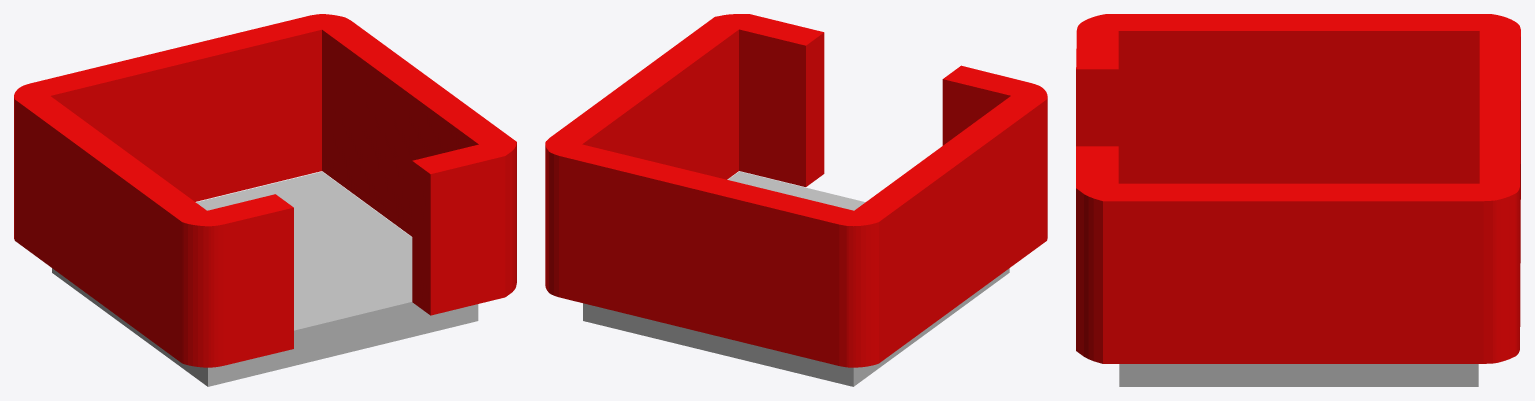
File: elevator.fbx
3 renders of one model, left to right at view 1: azimuth 30°, elevation 25°; view 2: azimuth 150°, elevation 25°; view 3: azimuth 270°, elevation 25°, orthographic. The views are drawn at different scales.
Parts seen in each view (by area): view 1: walls, floor; view 2: walls, floor; view 3: walls, floor.
Part boxes in pixels (x1,y1,x2,y2): walls: (14,14,516,367); floor: (52,171,478,386); walls: (545,14,1047,367); floor: (583,171,1009,386); walls: (1076,14,1520,363); floor: (1119,364,1478,386).
Bounding box in the file's own units: 493 × 250 × 495.
